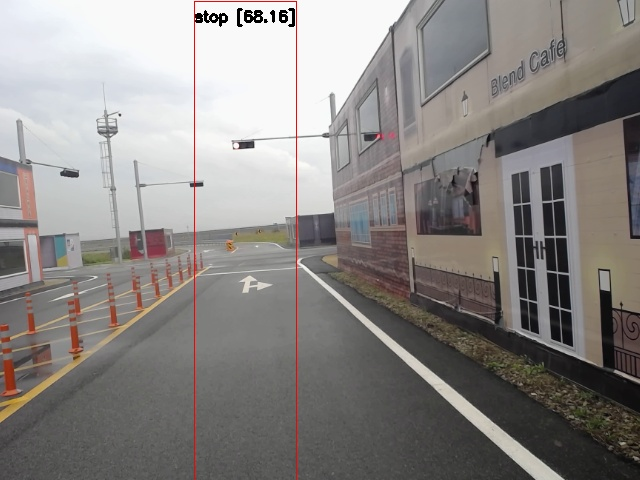red_3: (232, 140, 254, 149)
